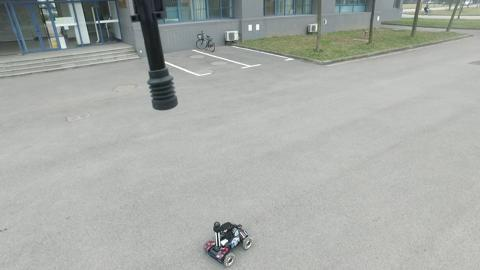chariot: (197, 215, 271, 268)
